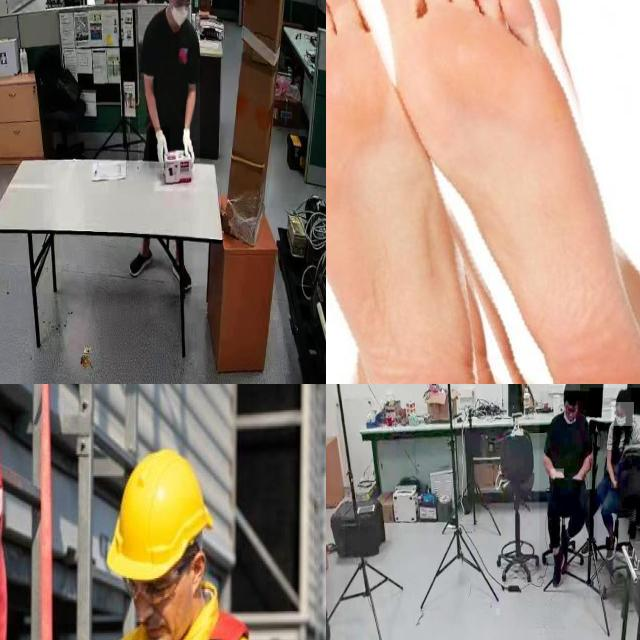Barefoots: (352, 0, 640, 384), (326, 0, 534, 384)
face_mask: (164, 0, 191, 27), (612, 402, 634, 427)
hand_glove: (149, 127, 171, 169), (180, 121, 196, 159)
hand_noglove: (550, 469, 564, 479), (571, 472, 584, 480), (611, 477, 618, 489)
head_nohelmet: (615, 388, 631, 402), (563, 384, 580, 391)
person: (540, 391, 598, 585), (137, 0, 200, 162), (589, 387, 640, 551)
shoes: (548, 546, 568, 592), (171, 256, 195, 294), (128, 246, 154, 280)
